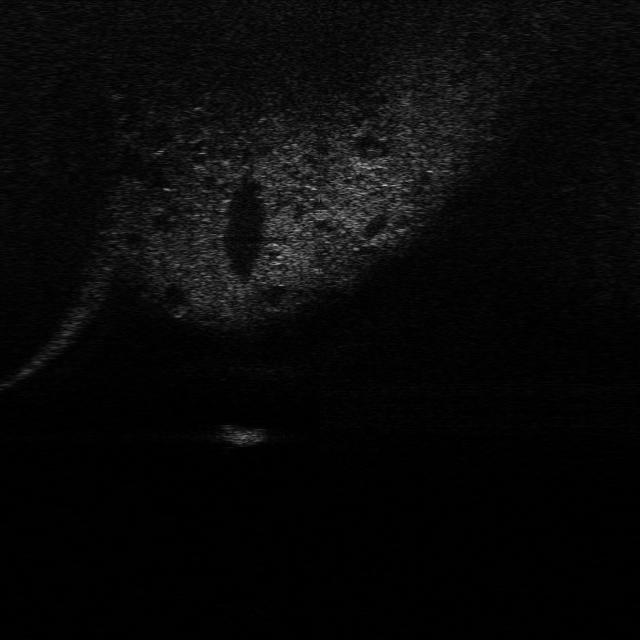cube: (216, 413, 274, 452)
